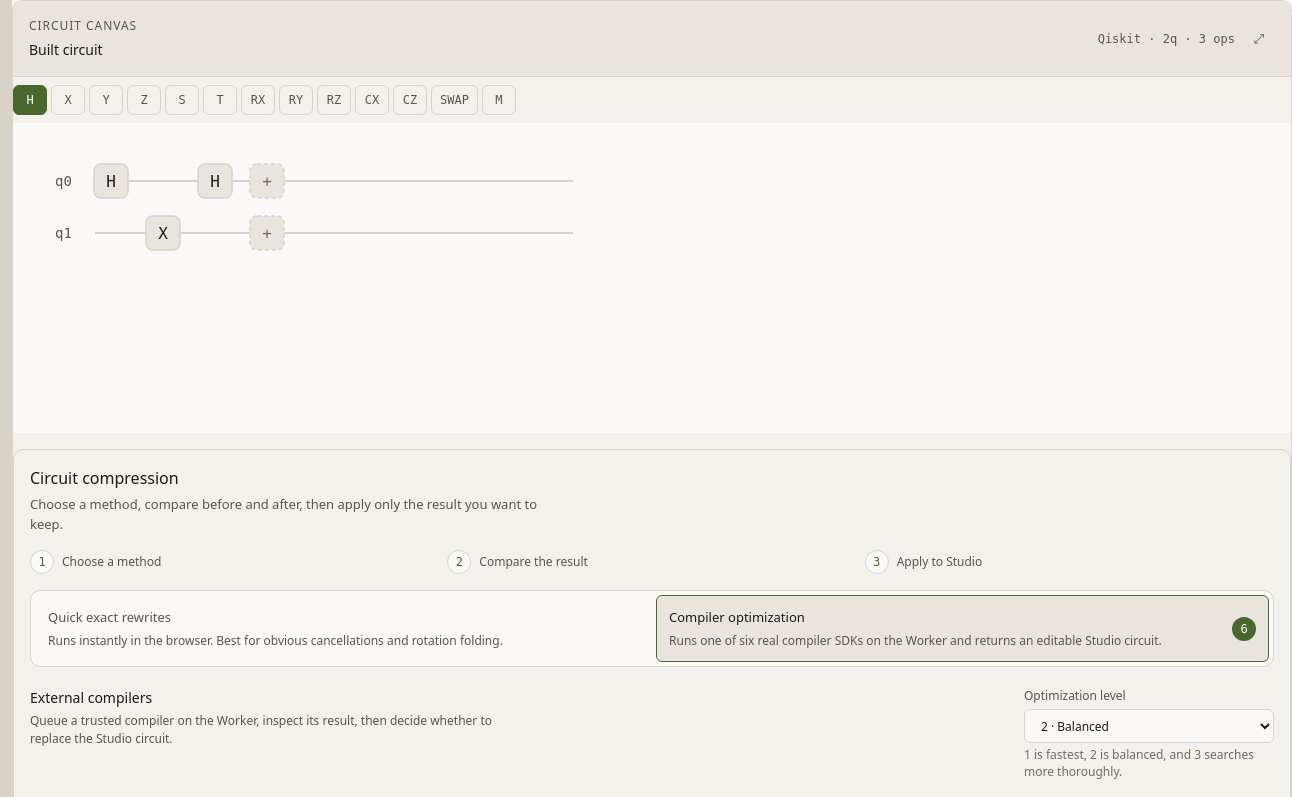
Test: Studio compression previews, applies to every framework draft, and can be undone
Click the tab "Quick exact rewrites". click: [110, 617]
box: [35,595,648,662]
(page scrolled)
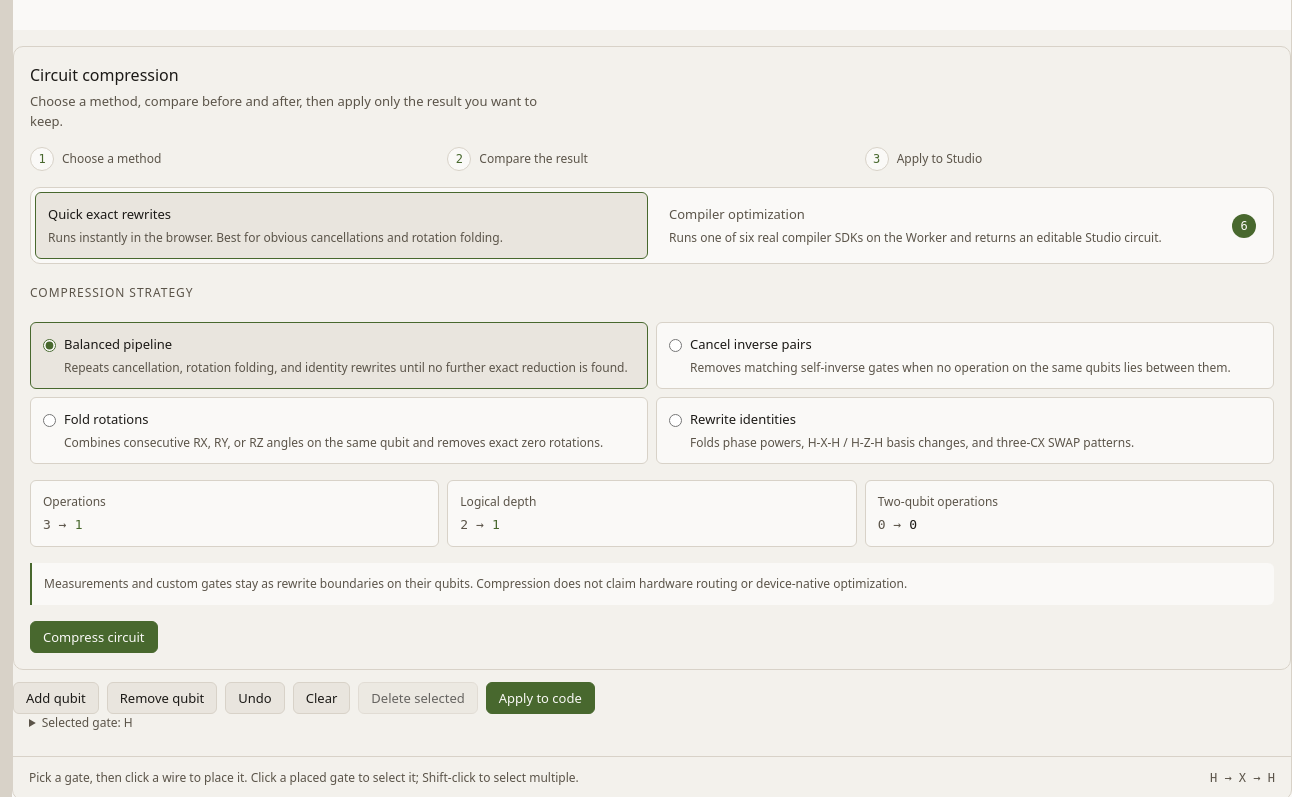
Click the button "Compress circuit". click: [94, 638]
box: [30,622,158,654]
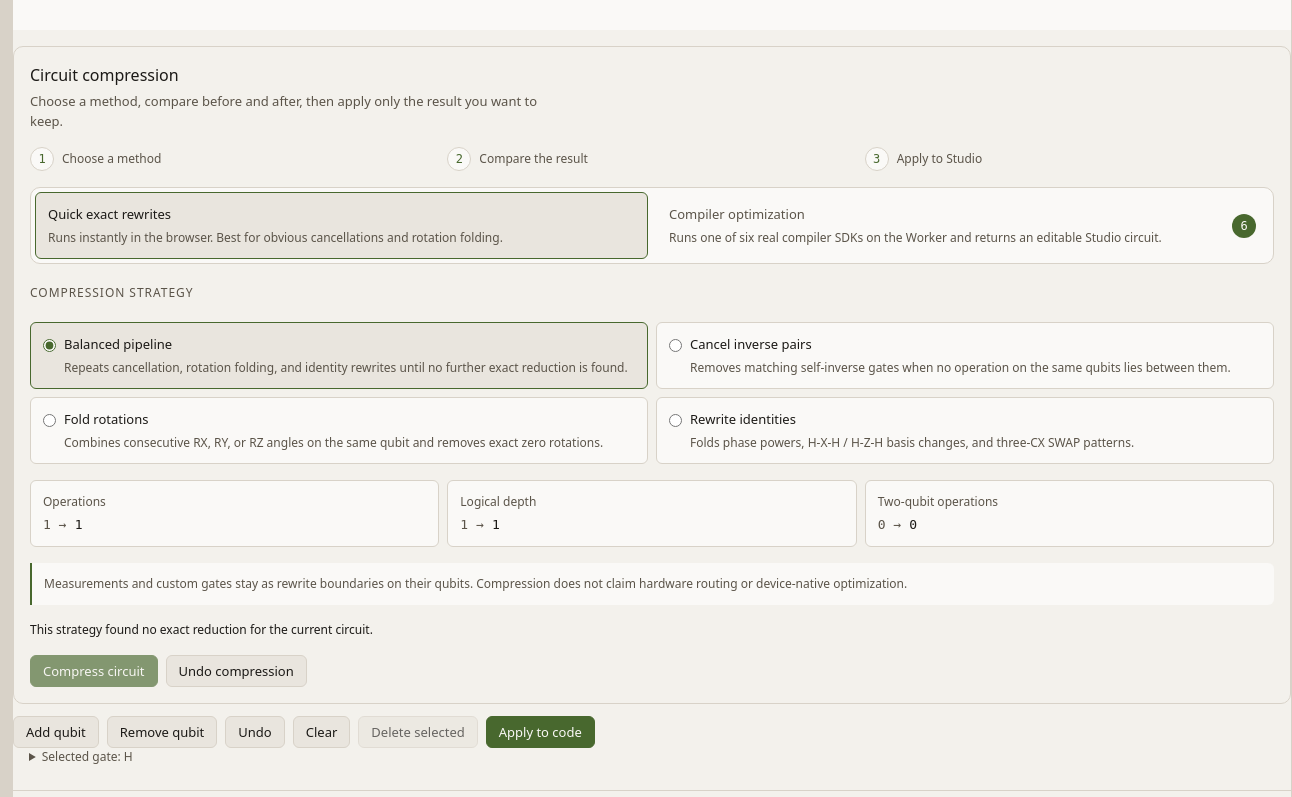
Click the button "Undo compression". click: [236, 672]
box: [166,656,307,688]
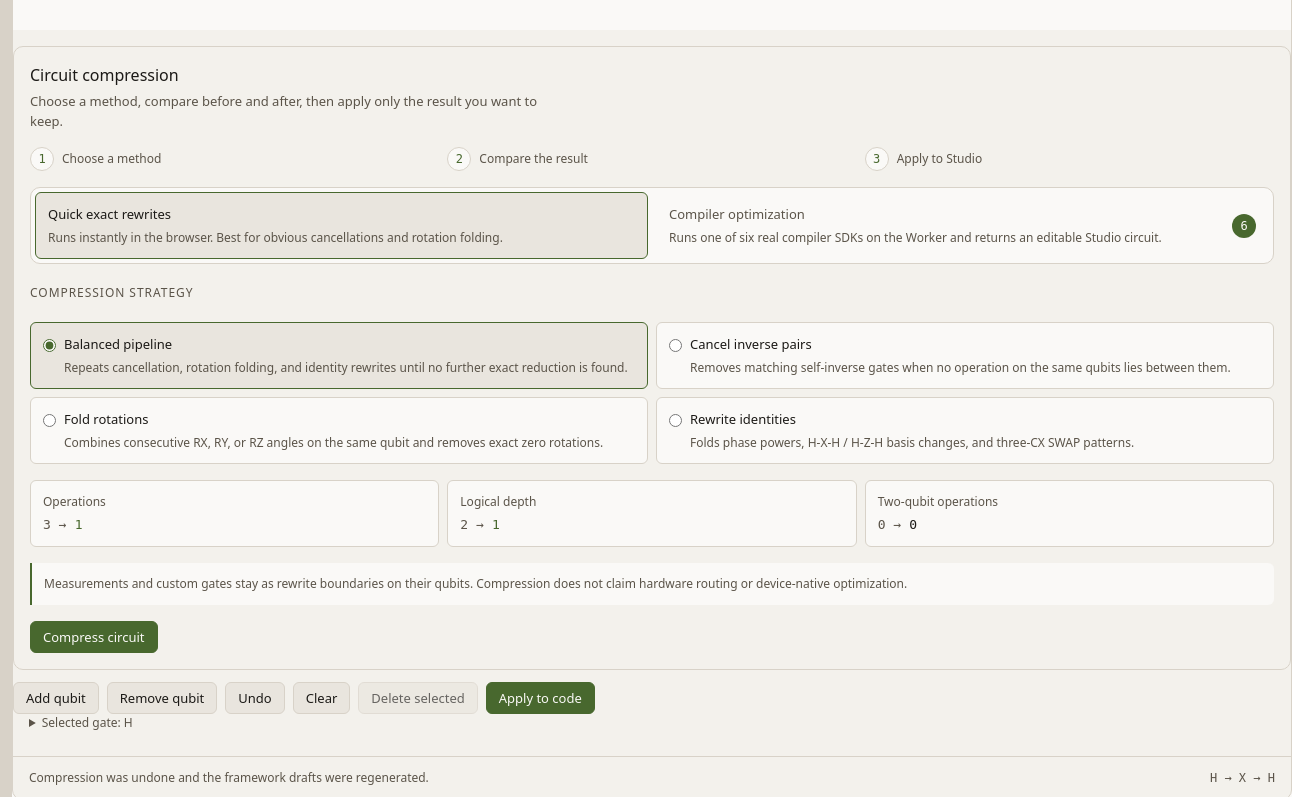
Expected: the text "Compression was undone and the framework drafts were regenerated." is shown, [29,770,429,788]
